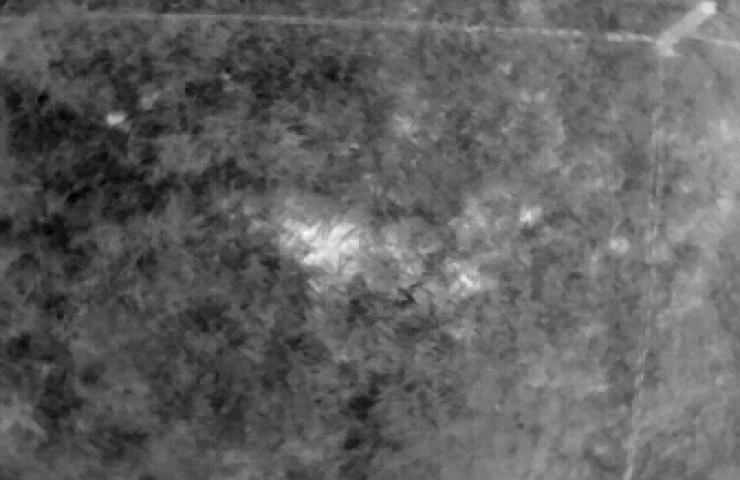landmines: (278, 213, 377, 293)
